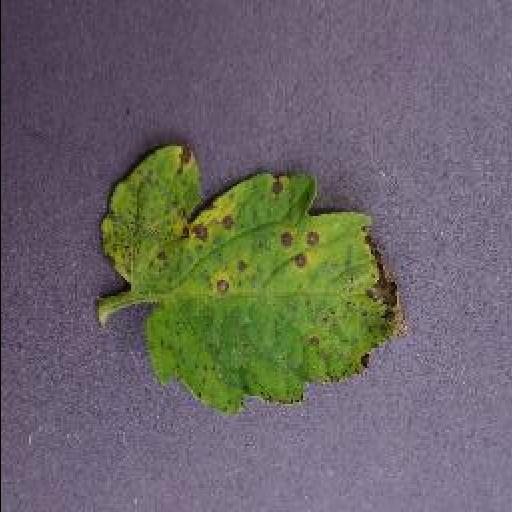disease_tomato: (96, 144, 406, 414)
